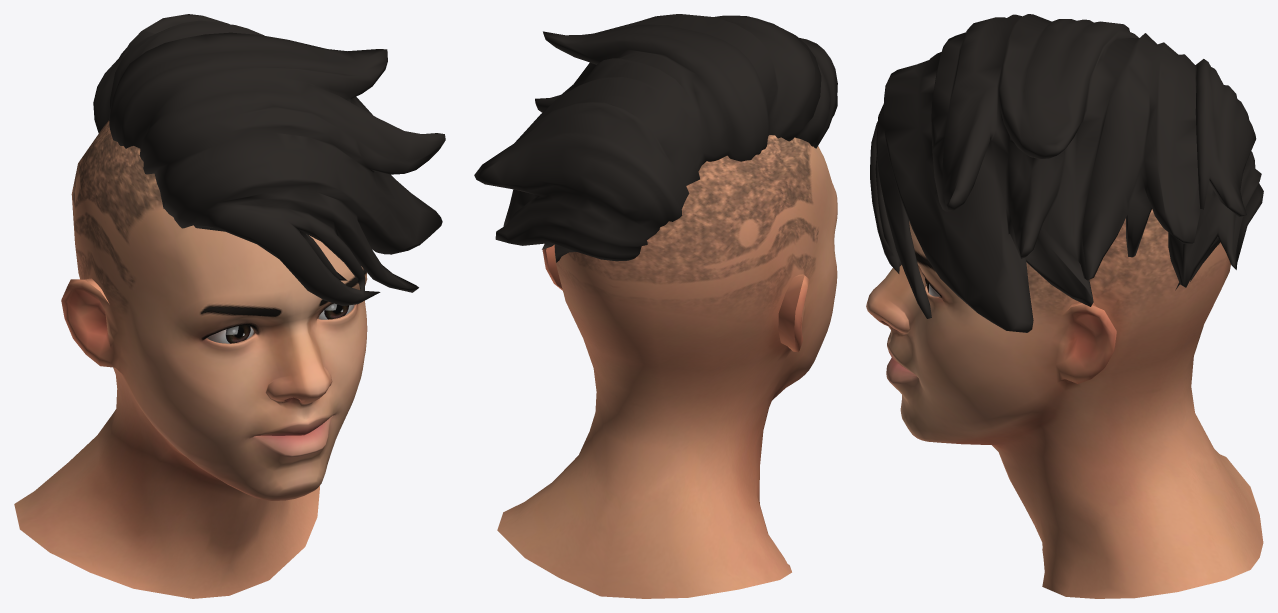
3 views of the same model, side by side, from view 1: azimuth 30°, elevation 25°; view 2: azimuth 150°, elevation 25°; view 3: azimuth 270°, elevation 25° (orthographic). The views are drawn at different scales.
Parts seen in each view (by area): view 1: Wolf3D_Avatar; view 2: Wolf3D_Avatar; view 3: Wolf3D_Avatar.
Part boxes in pixels (<box>): Wolf3D_Avatar: <box>14,14,445,598</box>; Wolf3D_Avatar: <box>474,14,837,598</box>; Wolf3D_Avatar: <box>866,14,1263,598</box>.
Bounding box in the file's own units: 22.73 × 34.5 × 22.89.
1 material, 1 textured.
